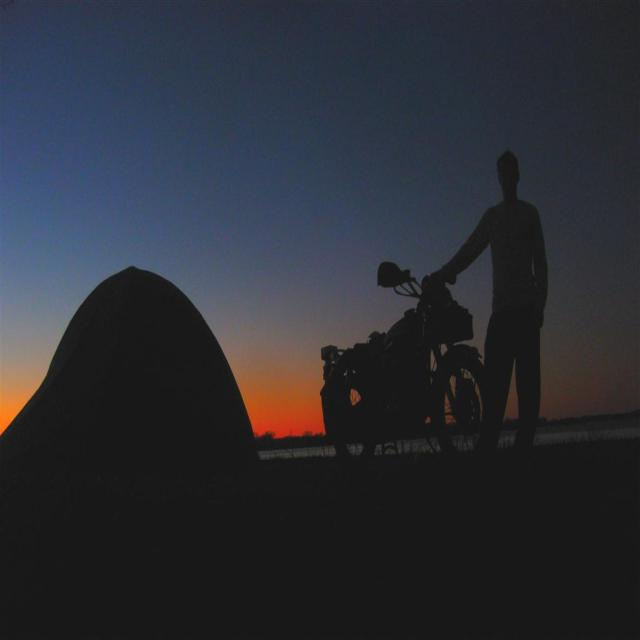Motorbike: (309, 260, 490, 491)
People: (467, 135, 565, 528)
